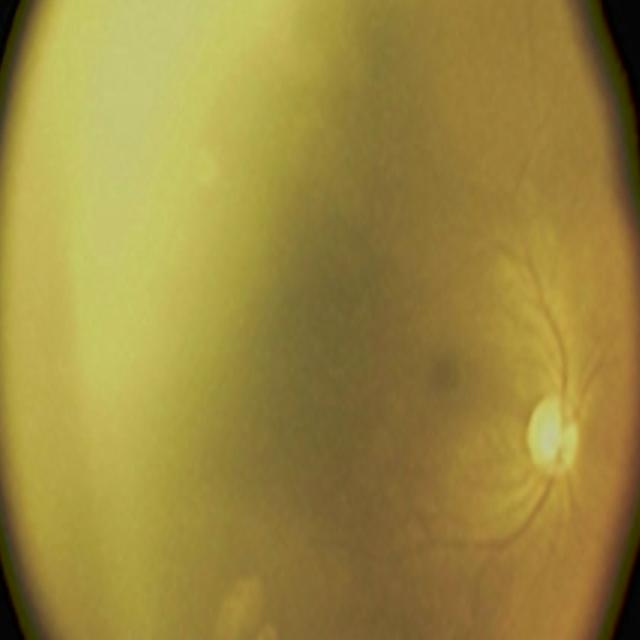optic-nerve: (505, 324, 605, 540)
